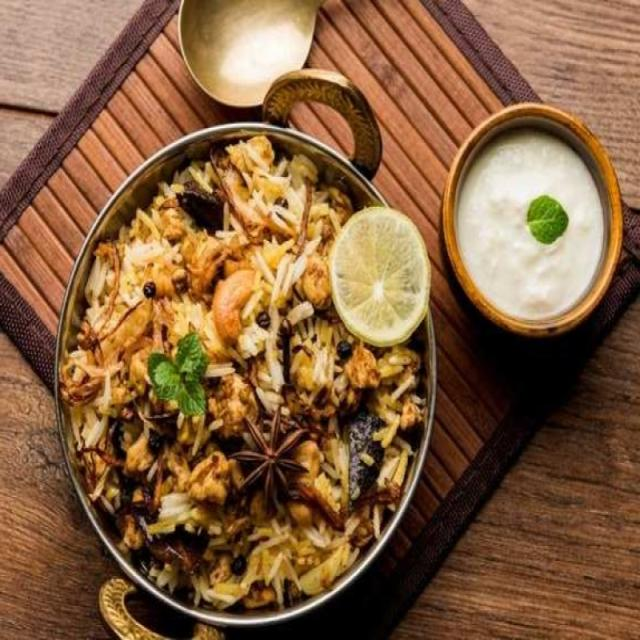Biryani: (54, 136, 425, 622)
